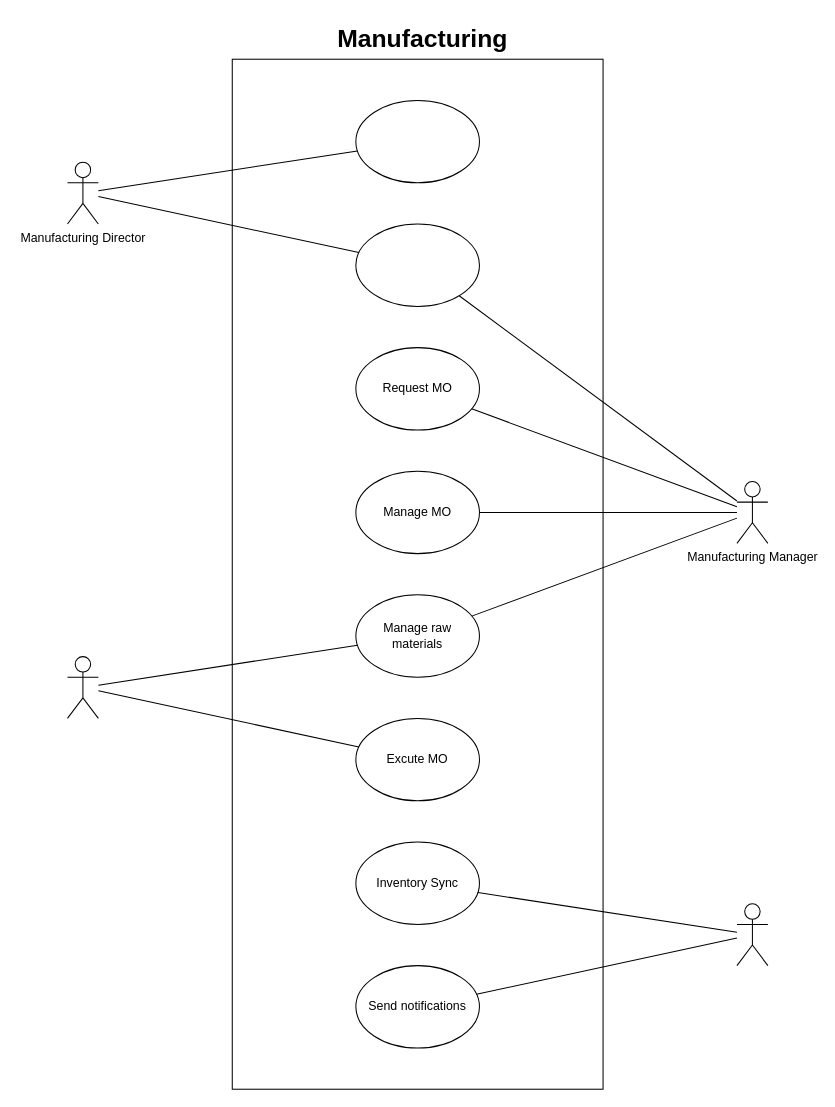
Image size: 835x1107. Some labels were removed from this diagram. Each missing label, with the centre of its shape:
"Handle MO" belongs at point 417,141.
"Manufacturing Operator" belongs at point 82,687.
"Monitor production progress" belongs at point 417,264.
"System" belongs at point 752,934.
